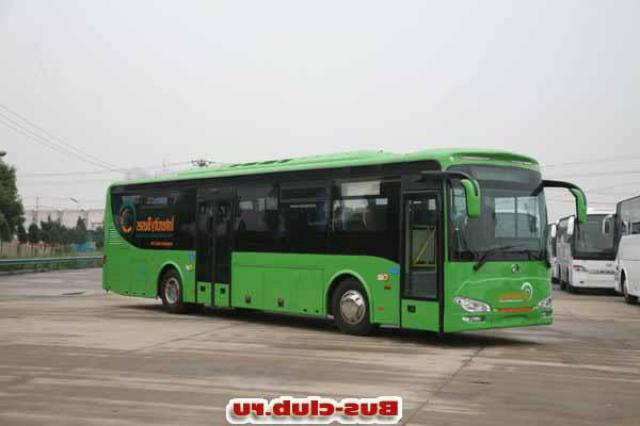bus: (100, 143, 593, 341), (555, 199, 631, 297)
